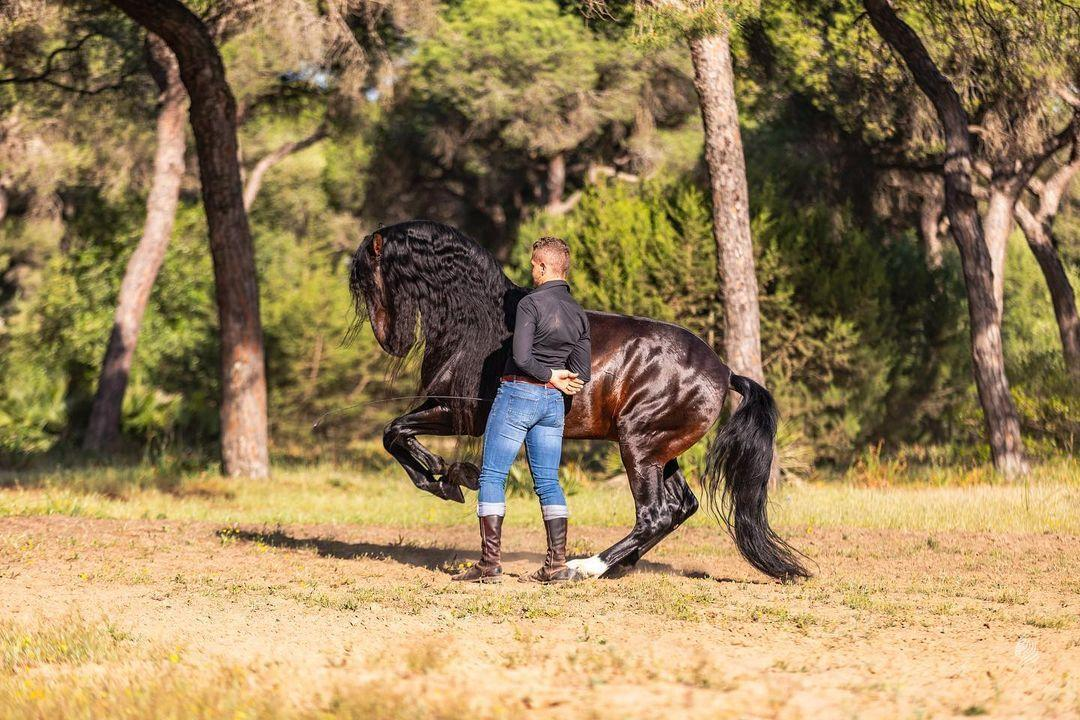horse: (337, 218, 819, 584)
